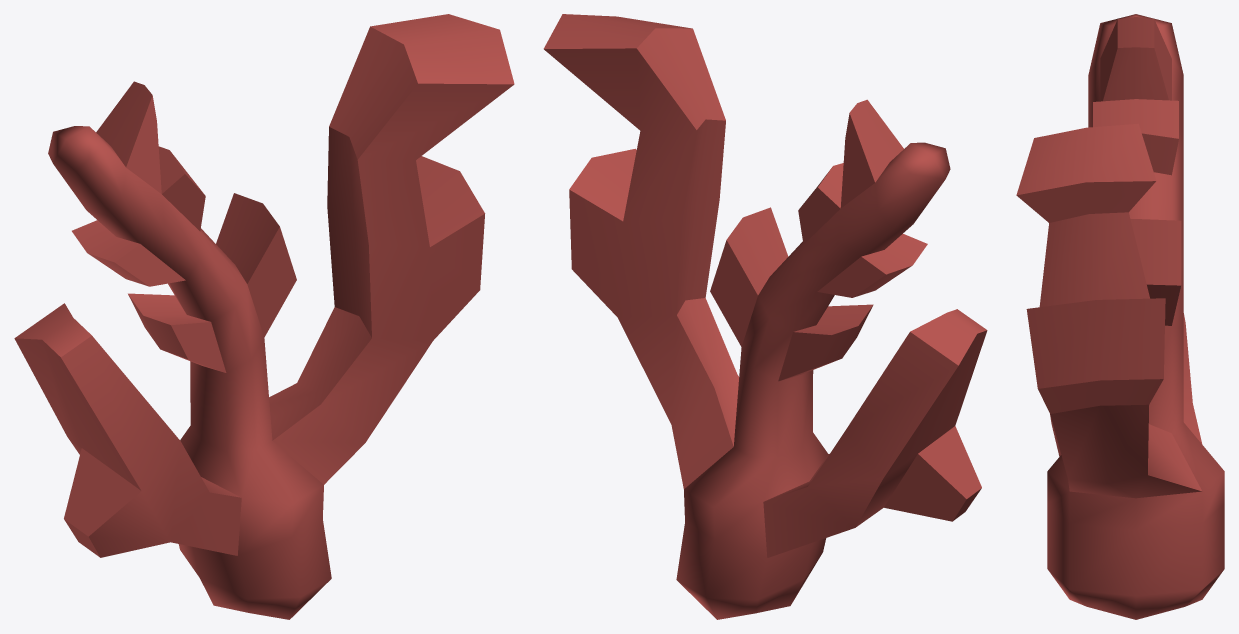
The model's file is Coral01.fbx.
The picture shows the model from 3 angles, left to right: view 1: azimuth 30°, elevation 25°; view 2: azimuth 150°, elevation 25°; view 3: azimuth 270°, elevation 25°; orthographic projection. The views are drawn at different scales.
Parts seen in each view (by area): view 1: Coral01; view 2: Coral01; view 3: Coral01.
Boxes of the visible parts, box(x1,y1,x2,y2) form: Coral01: box(14, 14, 514, 619); Coral01: box(543, 14, 987, 619); Coral01: box(1016, 14, 1224, 619).
Size of the model in its own units: 37.08 by 43.53 by 15.17.
